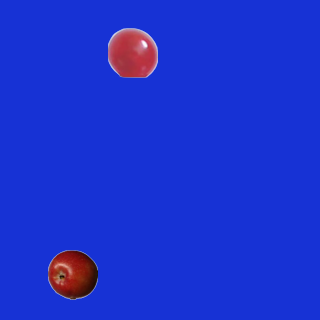Apple Braeburn: (47, 249, 97, 299)
Redcurrant: (107, 27, 157, 77)
